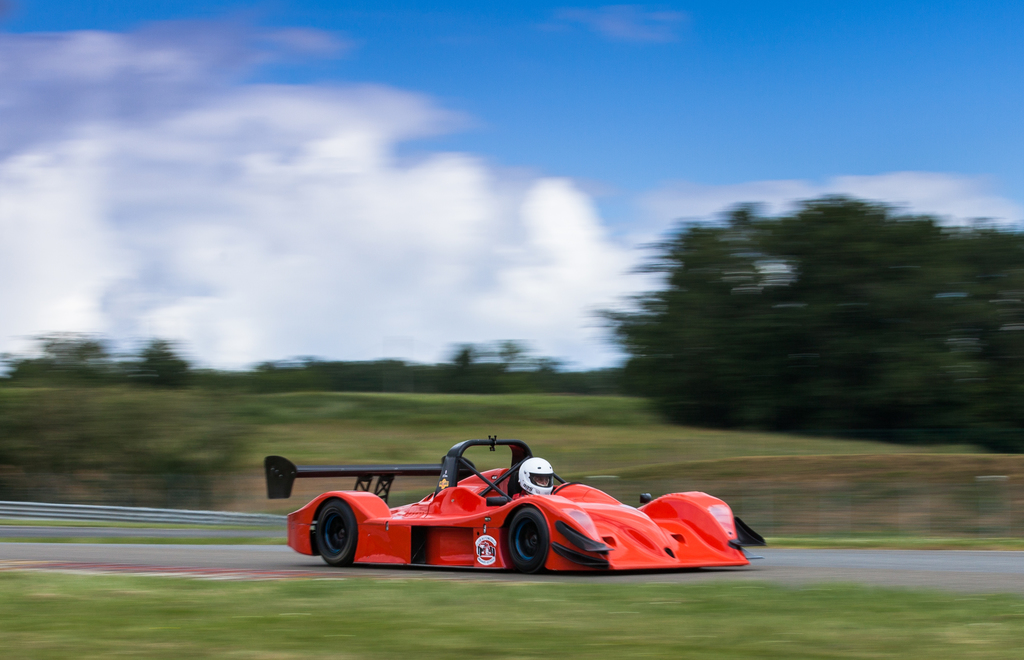Car: (259, 432, 765, 576)
